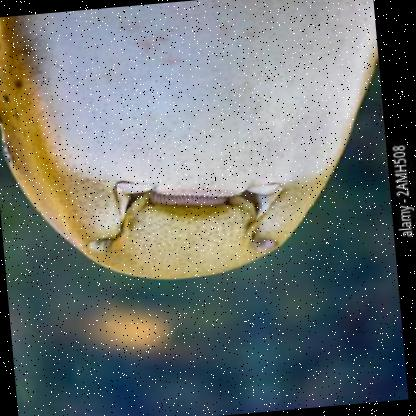zebra_shark: (0, 0, 395, 297)
